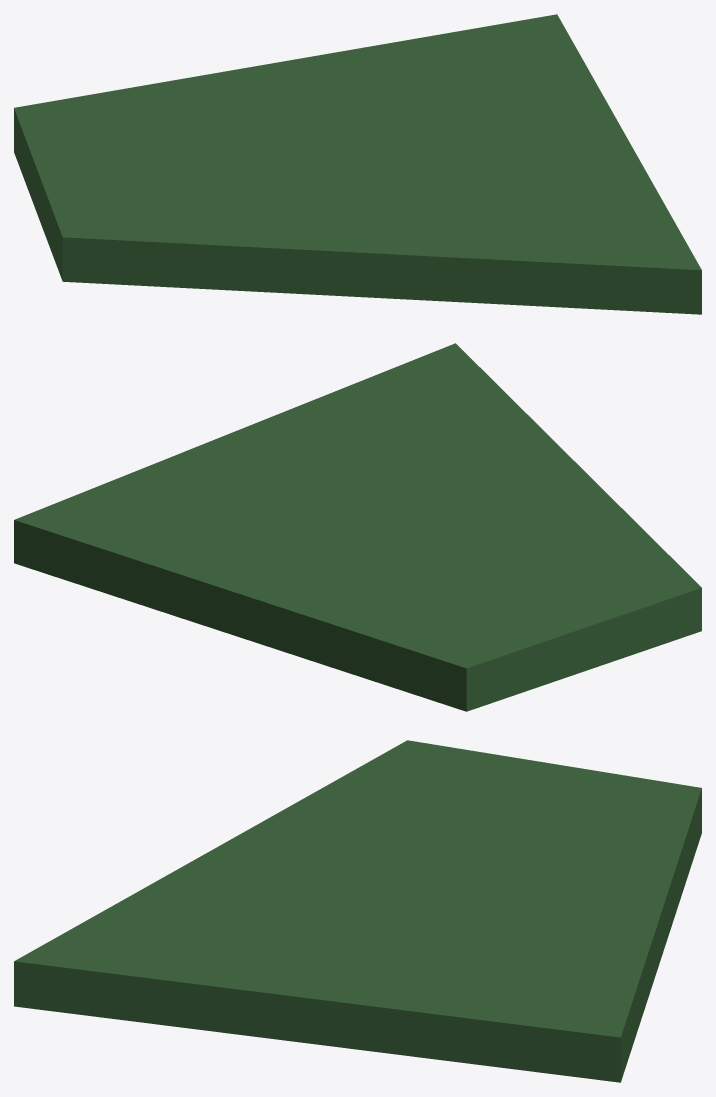
Rendered from x_proval_00_136_1_rmstrd.fbx.
The picture shows the model from 3 angles, top to bottom: view 1: azimuth 30°, elevation 25°; view 2: azimuth 150°, elevation 25°; view 3: azimuth 270°, elevation 25°; orthographic projection. The views are drawn at different scales.
Parts seen in each view (by area): view 1: x_proval_00_136_1_rmstrd1; view 2: x_proval_00_136_1_rmstrd1; view 3: x_proval_00_136_1_rmstrd1.
Boxes of the visible parts, bbox=[...] form: x_proval_00_136_1_rmstrd1: bbox=[14, 14, 701, 314]; x_proval_00_136_1_rmstrd1: bbox=[14, 343, 701, 711]; x_proval_00_136_1_rmstrd1: bbox=[14, 740, 701, 1082].
Bounding box in the file's own units: 2.82 × 0.2 × 2.76.
